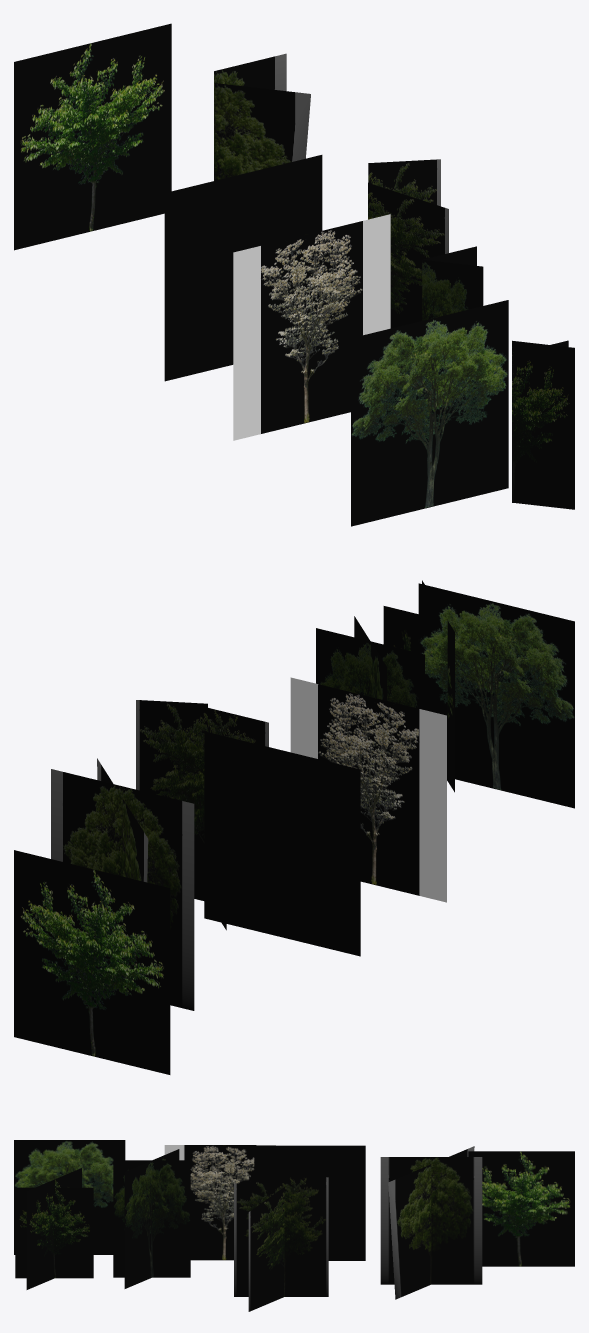
The model's file is KIN_AMB_TREES_R.glb.
The picture shows the model from 3 angles, top to bottom: view 1: azimuth 30°, elevation 25°; view 2: azimuth 150°, elevation 25°; view 3: azimuth 270°, elevation 25°; orthographic projection. The views are drawn at different scales.
Visible parts, largest first — view 1: bone4_18, bone4_23, bone4_21, bone4_20, bone4_22, bone4_19; view 2: bone4_21, bone4_23, bone4_18, bone4_20, bone4_22, bone4_19; view 3: bone4_21, bone4_18, bone4_22, bone4_23, bone4_19, bone4_20.
Boxes of the visible parts, box(x1,y1,x2,y2) form: bone4_18: box(351, 300, 574, 526); bone4_23: box(14, 23, 171, 250); bone4_21: box(164, 155, 448, 381); bone4_20: box(233, 214, 390, 440); bone4_22: box(214, 53, 310, 180); bone4_19: box(422, 246, 483, 320); bone4_21: box(136, 700, 360, 956); bone4_23: box(14, 850, 170, 1074); bone4_18: box(383, 580, 574, 808); bone4_20: box(290, 677, 446, 902); bone4_22: box(51, 758, 194, 1010); bone4_19: box(316, 616, 424, 709); bone4_21: box(234, 1145, 365, 1311); bone4_18: box(14, 1140, 125, 1289); bone4_22: box(380, 1146, 482, 1299); bone4_23: box(468, 1151, 574, 1266); bone4_19: box(113, 1149, 190, 1288); bone4_20: box(164, 1145, 275, 1260).
Bounding box in the file's own units: 35.15 × 26.82 × 105.
Materials: 7 (7 with a texture image).
